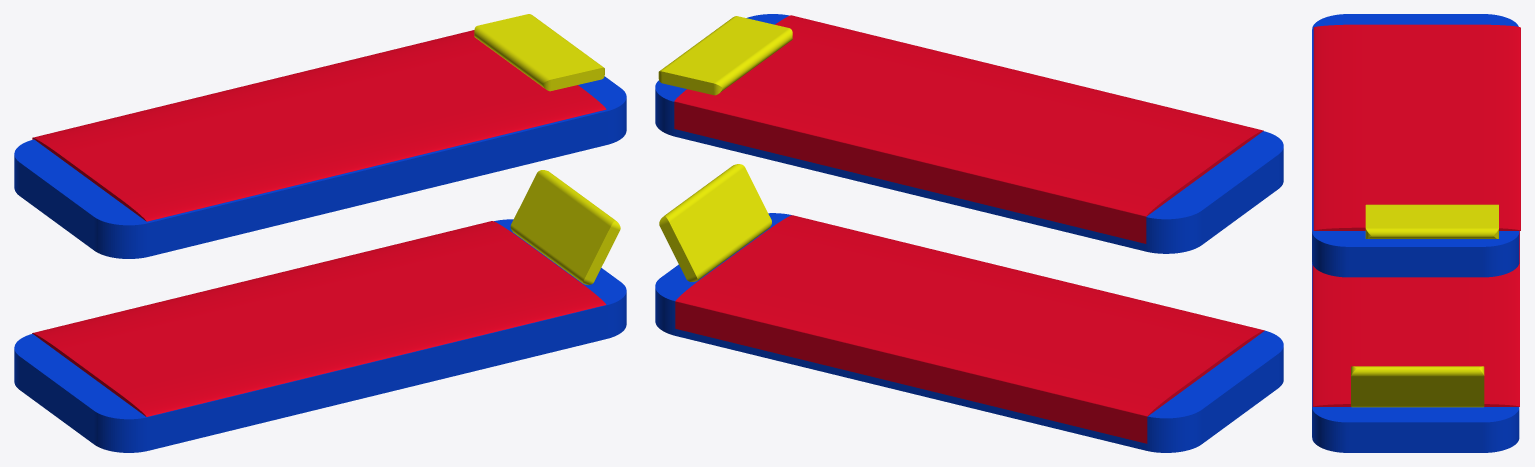
Rendered from BunkBed_Matresses.fbx.
3 views of the same model, side by side, from view 1: azimuth 30°, elevation 25°; view 2: azimuth 150°, elevation 25°; view 3: azimuth 270°, elevation 25° (orthographic). The views are drawn at different scales.
Parts seen in each view (by area): view 1: Bunk-Bed-Matresses; view 2: Bunk-Bed-Matresses; view 3: Bunk-Bed-Matresses.
Boxes of the visible parts, x1=… form: Bunk-Bed-Matresses: x1=14, y1=14, x2=626, y2=452; Bunk-Bed-Matresses: x1=655, y1=14, x2=1283, y2=452; Bunk-Bed-Matresses: x1=1312, y1=14, x2=1520, y2=452.
Size of the model in its own units: 1557 by 687 by 588.
